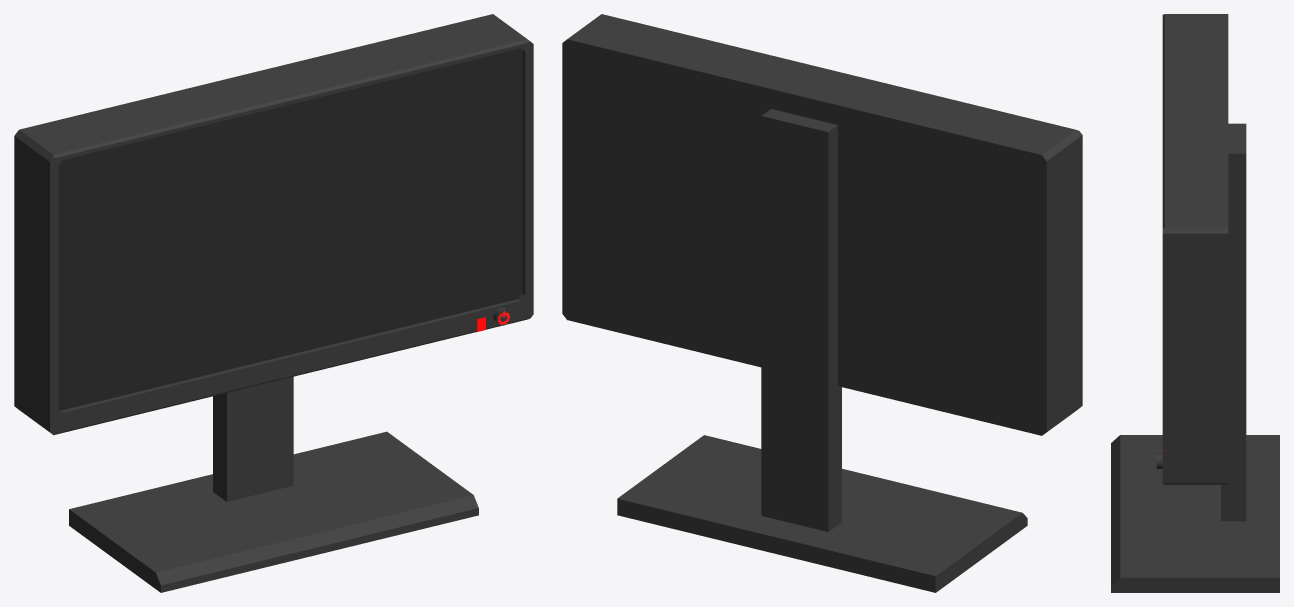
The picture shows the model from 3 angles, left to right: view 1: azimuth 30°, elevation 25°; view 2: azimuth 150°, elevation 25°; view 3: azimuth 270°, elevation 25°; orthographic projection. The views are drawn at different scales.
Parts seen in each view (by area): view 1: Cube; view 2: Cube; view 3: Cube.
Part boxes in pixels (<box>): Cube: <box>14,14,533,592</box>; Cube: <box>562,14,1082,592</box>; Cube: <box>1111,14,1279,592</box>.
Size of the model in its own units: 89.66 by 77.19 by 29.47.
